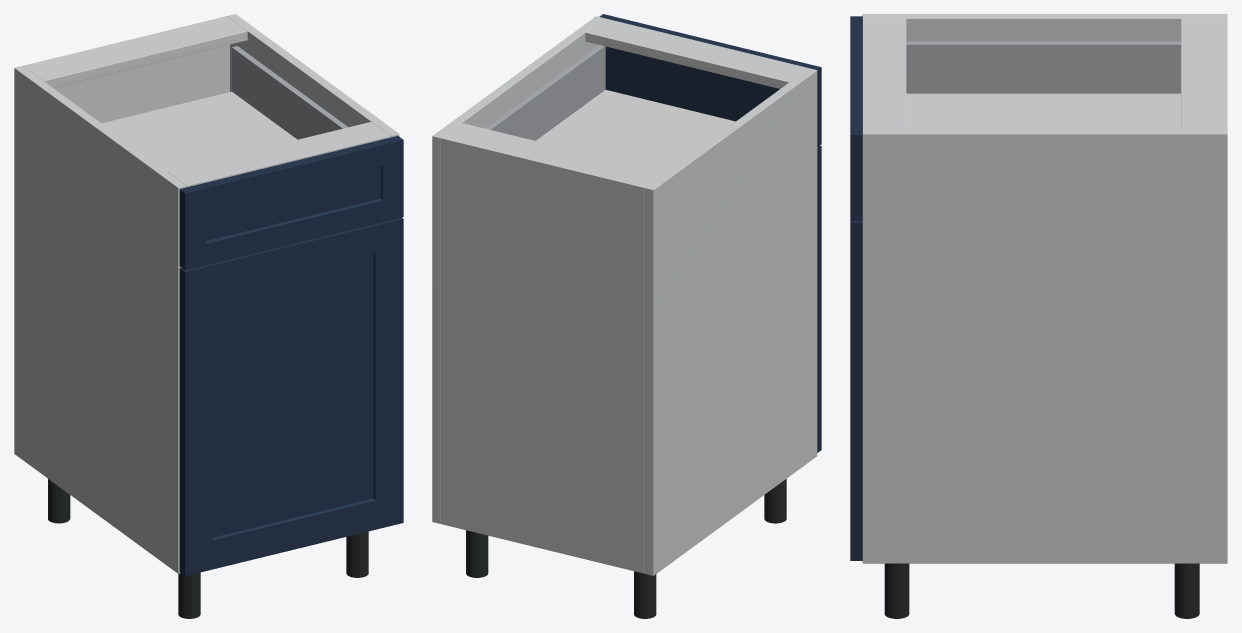
Rendered from oppein-pb-bss-b18.glb.
3 renders of one model, left to right at view 1: azimuth 30°, elevation 25°; view 2: azimuth 150°, elevation 25°; view 3: azimuth 270°, elevation 25°, orthographic. The views are drawn at different scales.
Visible parts, largest first — view 1: Door, Cabinet side, Drawer front, Drawer floor, Cabinet back, Top support rail, Drawer side.001, Top support rail.001, Cabinet side.001, Adjustable foot.001, Adjustable foot.003, Adjustable foot; view 2: Cabinet back, Cabinet side, Drawer floor, Drawer front, Cabinet side.001, Top support rail.001, Drawer side.001, Top support rail, Door, Adjustable foot, Adjustable foot.002, Adjustable foot.001; view 3: Cabinet side.001, Drawer side, Drawer floor, Cabinet side, Top support rail.001, Top support rail, Door, Drawer front, Adjustable foot.002, Adjustable foot.003, Cabinet back.
Boxes of the visible parts, x1=… form: Door: x1=179, y1=217, x2=403, y2=575; Cabinet side: x1=14, y1=66, x2=186, y2=573; Drawer front: x1=179, y1=136, x2=403, y2=270; Drawer floor: x1=102, y1=91, x2=297, y2=171; Cabinet back: x1=23, y1=16, x2=229, y2=123; Top support rail: x1=25, y1=18, x2=247, y2=87; Drawer side.001: x1=232, y1=46, x2=348, y2=139; Top support rail.001: x1=167, y1=122, x2=390, y2=187; Cabinet side.001: x1=227, y1=14, x2=399, y2=137; Adjustable foot.001: x1=178, y1=572, x2=200, y2=618; Adjustable foot.003: x1=346, y1=531, x2=368, y2=577; Adjustable foot: x1=48, y1=479, x2=70, y2=523; Cabinet back: x1=441, y1=136, x2=647, y2=573; Cabinet side: x1=645, y1=68, x2=817, y2=575; Drawer floor: x1=536, y1=89, x2=735, y2=172; Drawer front: x1=599, y1=14, x2=821, y2=146; Cabinet side.001: x1=432, y1=16, x2=604, y2=523; Top support rail.001: x1=585, y1=18, x2=808, y2=88; Drawer side.001: x1=485, y1=45, x2=605, y2=140; Top support rail: x1=444, y1=123, x2=665, y2=185; Door: x1=817, y1=145, x2=821, y2=452; Adjustable foot: x1=634, y1=571, x2=656, y2=618; Adjustable foot.002: x1=466, y1=530, x2=488, y2=577; Adjustable foot.001: x1=764, y1=479, x2=786, y2=523; Cabinet side.001: x1=862, y1=129, x2=1227, y2=563; Drawer side: x1=906, y1=41, x2=1180, y2=93; Drawer floor: x1=906, y1=93, x2=1180, y2=129; Cabinet side: x1=862, y1=14, x2=1227, y2=41; Top support rail.001: x1=862, y1=18, x2=906, y2=129; Top support rail: x1=1181, y1=18, x2=1220, y2=129; Door: x1=850, y1=220, x2=862, y2=560; Drawer front: x1=850, y1=16, x2=862, y2=220; Adjustable foot.002: x1=1174, y1=563, x2=1199, y2=618; Adjustable foot.003: x1=884, y1=563, x2=909, y2=618; Cabinet back: x1=1220, y1=18, x2=1227, y2=129.
Bounding box in the file's own units: 0.4572 × 0.8763 × 0.6064.
